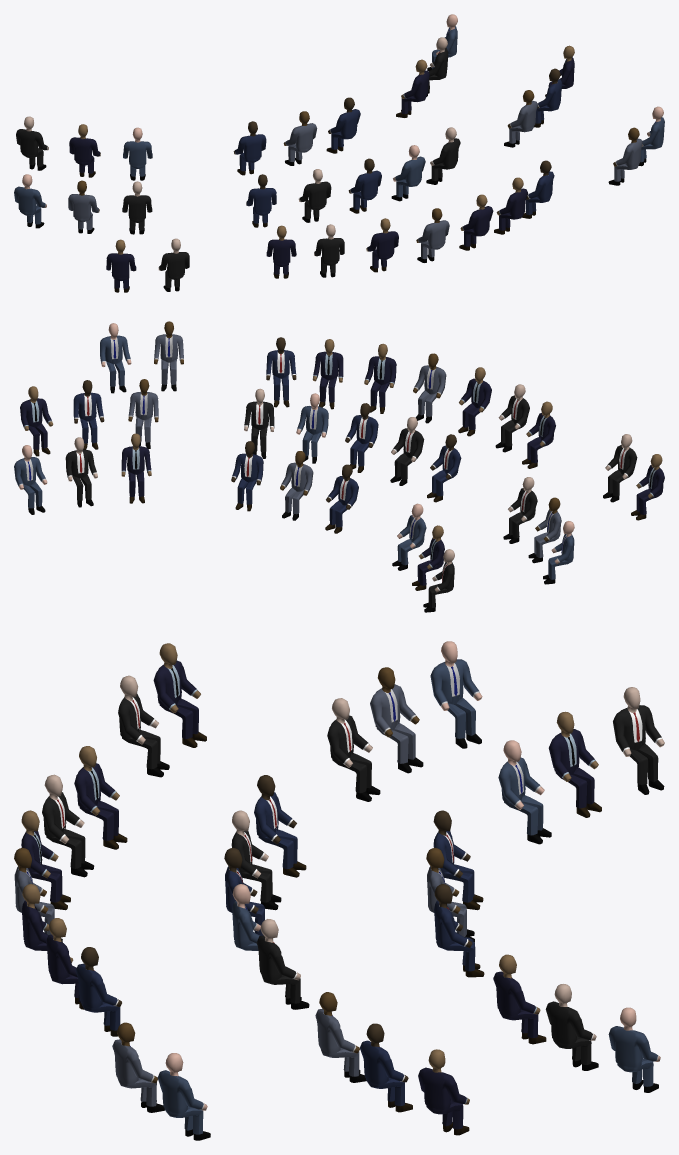
Rendered from NPCsSittingSoGoodForUs.fbx.
The picture shows the model from 3 angles, top to bottom: view 1: azimuth 30°, elevation 25°; view 2: azimuth 150°, elevation 25°; view 3: azimuth 270°, elevation 25°; orthographic projection. The views are drawn at different scales.
Visible parts, largest first — view 1: PoliticianNPC1 (×7), PoliticianNPC (×7), PoliticianNPC2 (×6), PoliticianNPC7 (×2), PoliticianNPC8 (×2), PoliticianNPC11, PoliticianNPC4, PoliticianNPC5, PoliticianNPC10, PoliticianNPC6, PoliticianNPC3, PoliticianNPC9; view 2: PoliticianNPC (×7), PoliticianNPC1 (×7), PoliticianNPC2 (×6), PoliticianNPC8 (×2), PoliticianNPC7 (×2), PoliticianNPC10, PoliticianNPC9, PoliticianNPC3, PoliticianNPC5, PoliticianNPC4, PoliticianNPC6, PoliticianNPC11; view 3: PoliticianNPC (×7), PoliticianNPC1 (×7), PoliticianNPC2 (×6), PoliticianNPC7 (×2), PoliticianNPC8 (×2), PoliticianNPC11, PoliticianNPC6, PoliticianNPC4, PoliticianNPC5, PoliticianNPC3, PoliticianNPC9, PoliticianNPC10.
Boxes of the visible parts, box(x1,y1,x2,y2) form: PoliticianNPC1 (×7): box(68, 37, 562, 262); PoliticianNPC (×7): box(122, 14, 574, 250); PoliticianNPC2 (×6): box(14, 59, 538, 272); PoliticianNPC7 (×2): box(106, 127, 642, 292); PoliticianNPC8 (×2): box(158, 106, 664, 291); PoliticianNPC11: box(16, 116, 48, 170); PoliticianNPC4: box(246, 174, 276, 227); PoliticianNPC5: box(314, 224, 344, 277); PoliticianNPC10: box(494, 177, 528, 234); PoliticianNPC6: box(266, 225, 296, 278); PoliticianNPC3: box(426, 127, 460, 184); PoliticianNPC9: box(522, 160, 554, 218); PoliticianNPC (×7): box(14, 343, 537, 570); PoliticianNPC1 (×7): box(65, 353, 561, 590); PoliticianNPC2 (×6): box(121, 367, 574, 584); PoliticianNPC8 (×2): box(100, 323, 637, 502); PoliticianNPC7 (×2): box(154, 321, 664, 520); PoliticianNPC10: box(312, 339, 343, 409); PoliticianNPC9: box(266, 337, 296, 407); PoliticianNPC3: box(244, 388, 274, 458); PoliticianNPC5: box(495, 384, 529, 452); PoliticianNPC4: box(427, 434, 461, 502); PoliticianNPC6: box(522, 401, 555, 468); PoliticianNPC11: box(423, 549, 454, 612); PoliticianNPC (×7): box(22, 698, 660, 1135); PoliticianNPC1 (×7): box(14, 667, 601, 1112); PoliticianNPC2 (×6): box(21, 641, 546, 1082); PoliticianNPC7 (×2): box(112, 643, 206, 1112); PoliticianNPC8 (×2): box(118, 675, 210, 1140); PoliticianNPC11: box(613, 687, 664, 794); PoliticianNPC6: box(74, 746, 127, 849); PoliticianNPC4: box(254, 775, 306, 877); PoliticianNPC5: box(42, 774, 94, 877); PoliticianNPC3: box(256, 919, 309, 1009); PoliticianNPC9: box(75, 947, 121, 1036); PoliticianNPC10: box(46, 918, 84, 1009).
Size of the model in its own units: 51.72 by 5.16 by 33.42.
